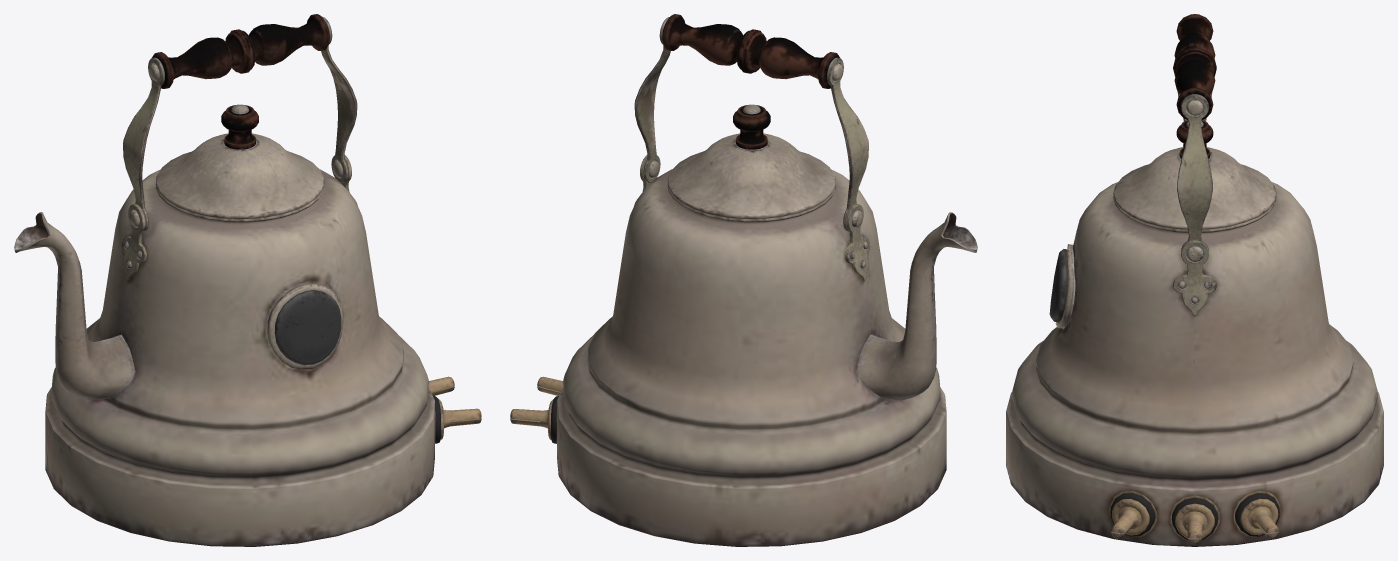
Rendered from kettle.glb.
The picture shows the model from 3 angles, left to right: view 1: azimuth 30°, elevation 25°; view 2: azimuth 150°, elevation 25°; view 3: azimuth 270°, elevation 25°; orthographic projection. The views are drawn at different scales.
Visible parts, largest first — view 1: vintage_electric_kettle; view 2: vintage_electric_kettle; view 3: vintage_electric_kettle.
Part boxes in pixels (left/top/right/bottom): vintage_electric_kettle: left=14, top=14, right=481, bottom=546; vintage_electric_kettle: left=510, top=14, right=977, bottom=546; vintage_electric_kettle: left=1006, top=14, right=1383, bottom=546.
Size of the model in its own units: 0.3209 by 0.3047 by 0.2485.
Materials: 2 (2 with a texture image).
